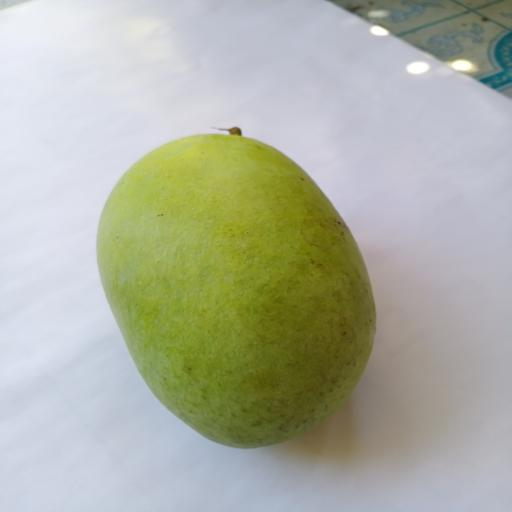mango-unripe: (82, 103, 397, 461)
